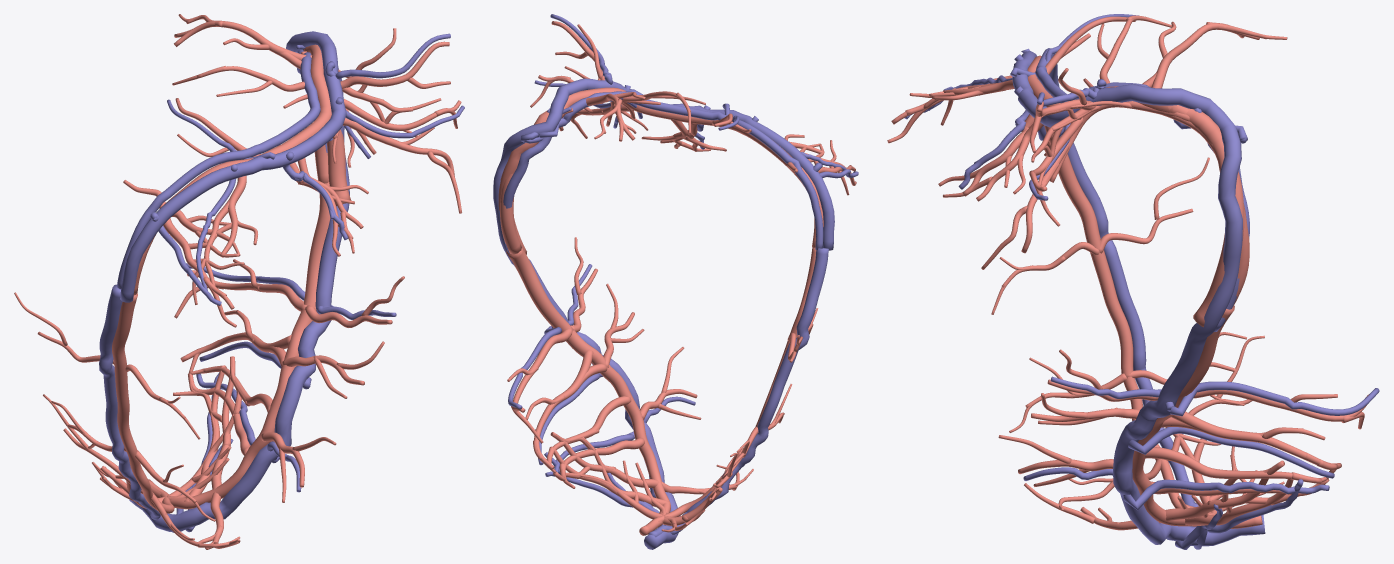
File: vessels_45.glb
The picture shows the model from 3 angles, left to right: view 1: azimuth 30°, elevation 25°; view 2: azimuth 150°, elevation 25°; view 3: azimuth 270°, elevation 25°; orthographic projection. The views are drawn at different scales.
Parts seen in each view (by area): view 1: Renderer Node; view 2: Renderer Node; view 3: Renderer Node.
Boxes of the visible parts, box(x1,y1,x2,y2) form: Renderer Node: box(14, 14, 464, 549); Renderer Node: box(493, 14, 858, 549); Renderer Node: box(887, 14, 1379, 549).
Bounding box in the file's own units: 94.8 × 122 × 95.33.
